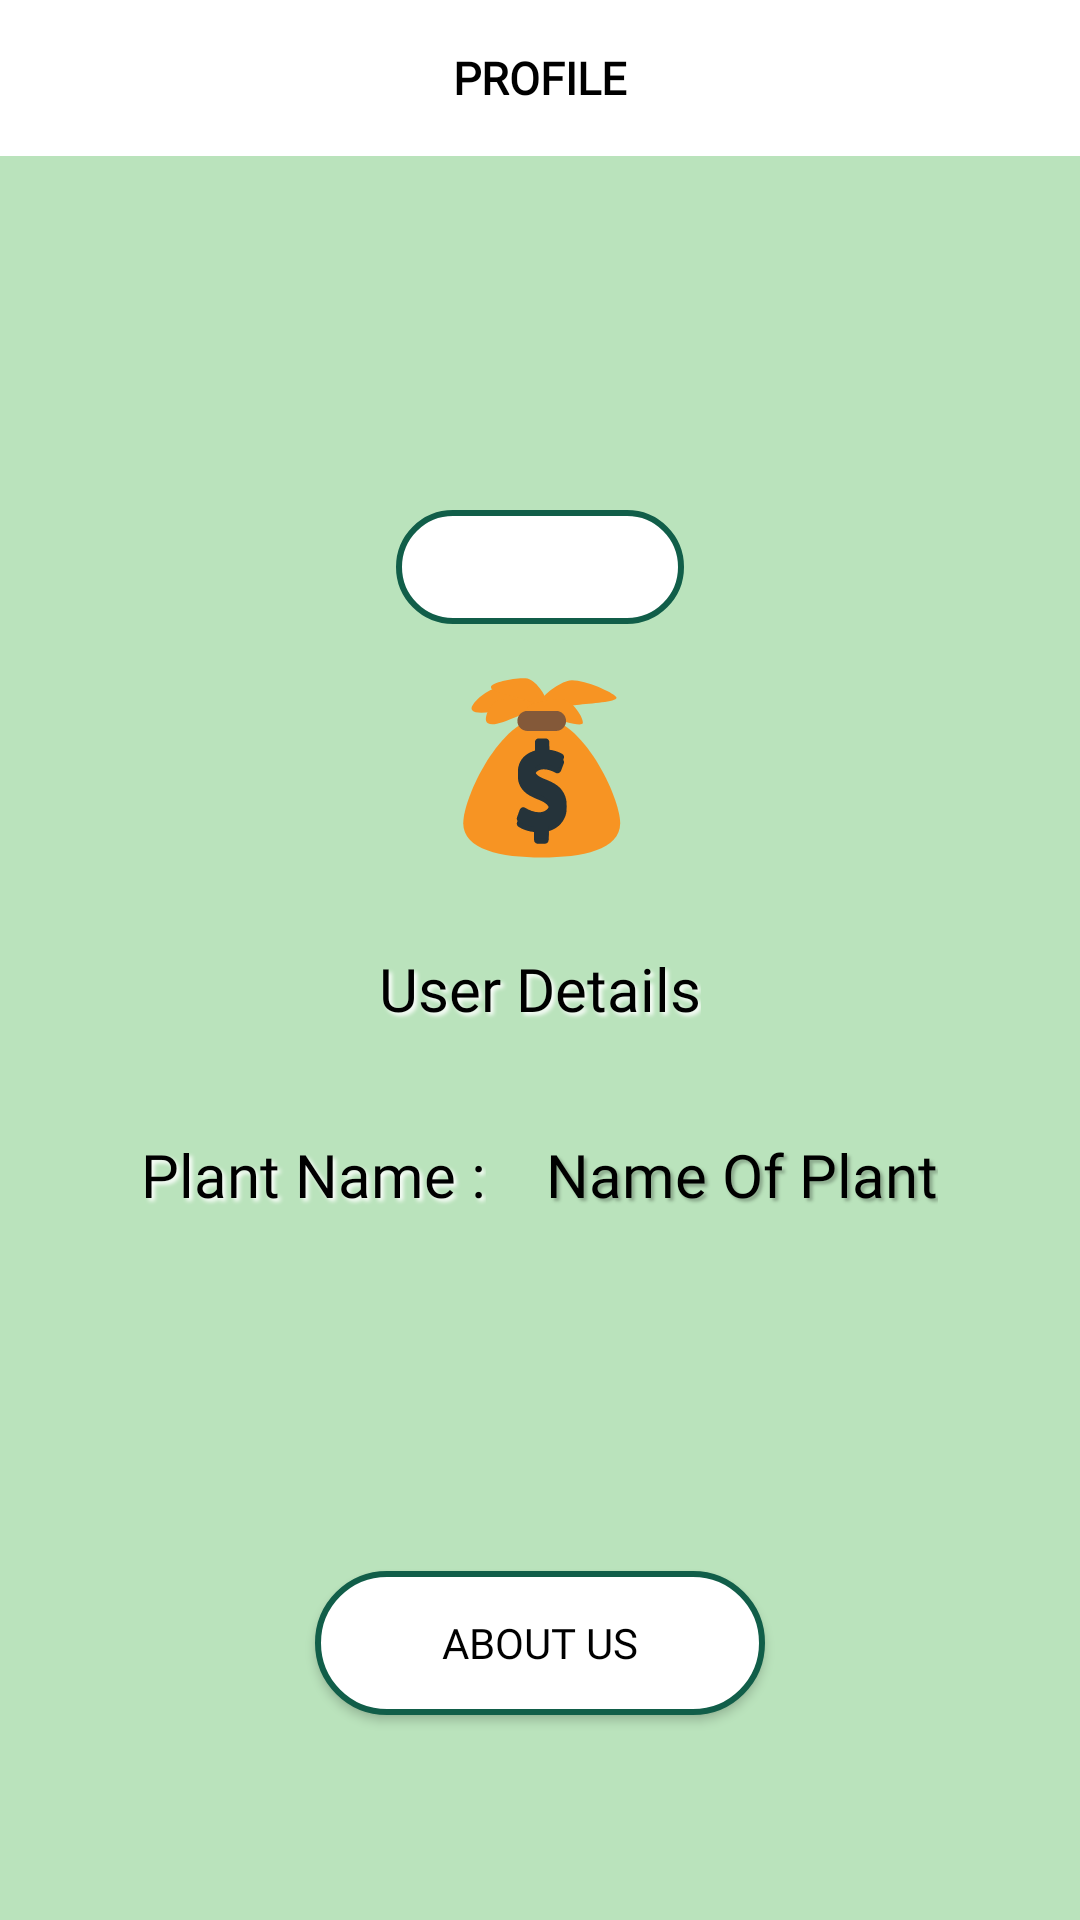

Point at icon controls on the screen. Image size 1080×1920, points as point (x, y).
moneybag: point (542, 768)
